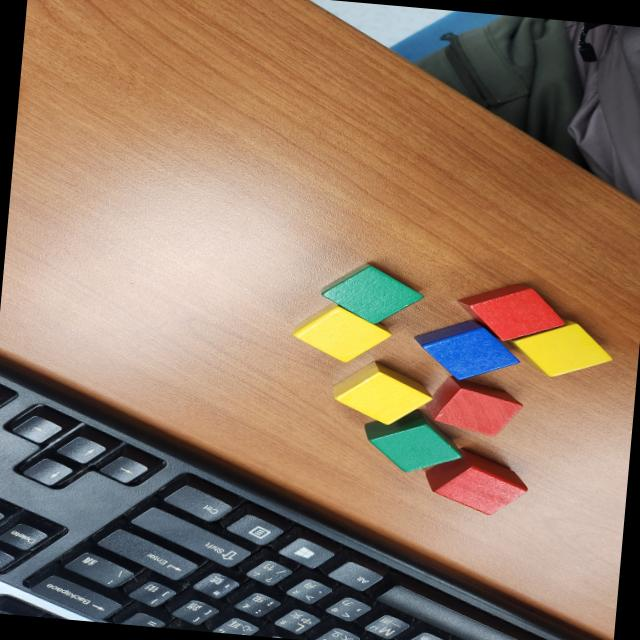blue: (408, 314, 522, 385)
green: (360, 404, 468, 478), (316, 258, 426, 329)
red: (422, 444, 530, 519), (452, 278, 570, 346), (420, 373, 525, 439)
yellow: (289, 298, 397, 368), (331, 358, 434, 429), (511, 314, 616, 383)
